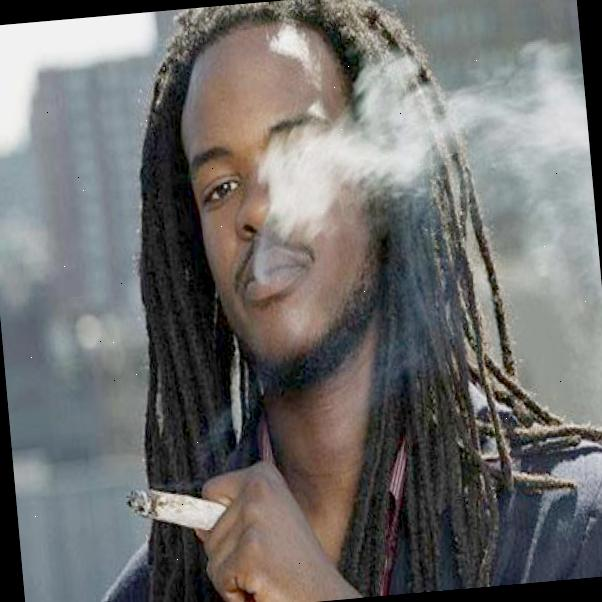smoke: (253, 32, 602, 375)
